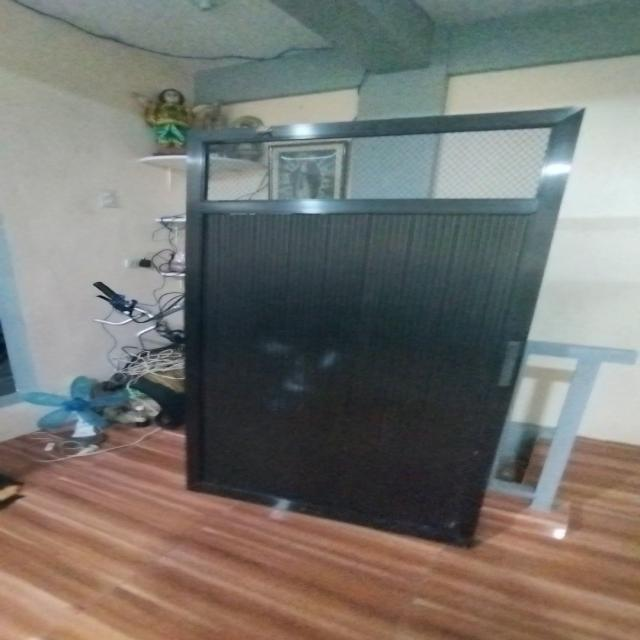door: (168, 103, 595, 548)
